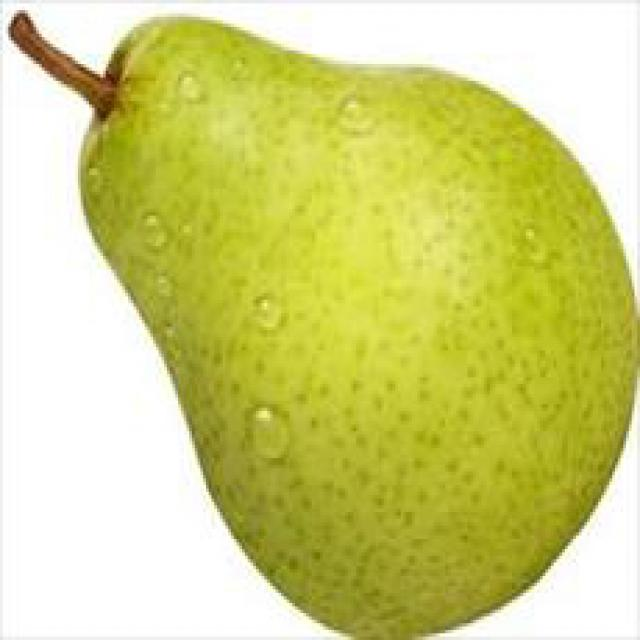pear: (3, 3, 640, 640)
